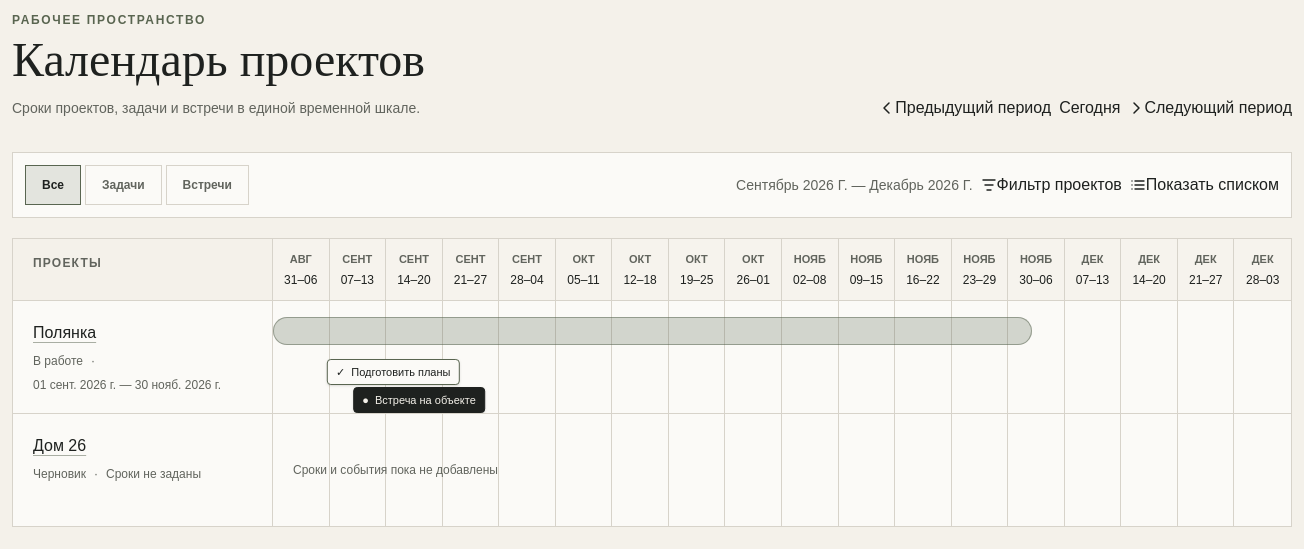
Test: GlobalProjectsCalendarPage › shows accessible project lanes, filters event kinds, and opens linked list items
Expected: the heading "Календарь проектов" is shown, [12,36,425,84]
Expected: the link "Полянка" is shown, [33,324,96,340]
Click the button "Задачи".
click(123, 185)  # box [85,165,162,205]
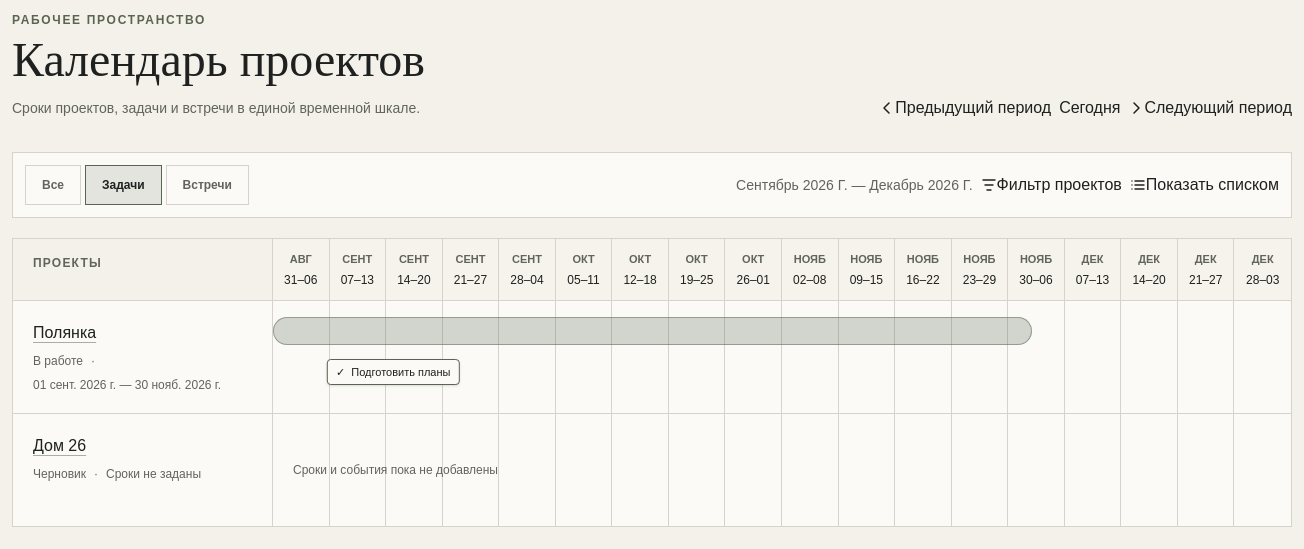
Click the button "Встречи".
click(207, 185)  # box [166,165,249,205]
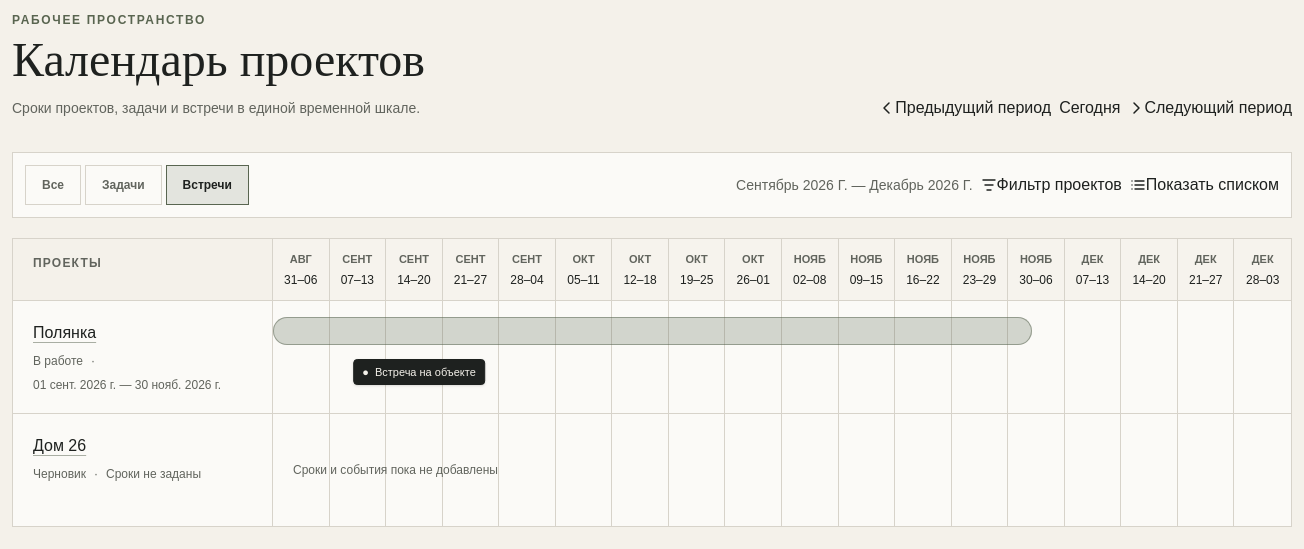
Expected: the link "Задача Подготовить планы" is not shown
Click the button "Задачи".
click(123, 185)  # box [85,165,162,205]
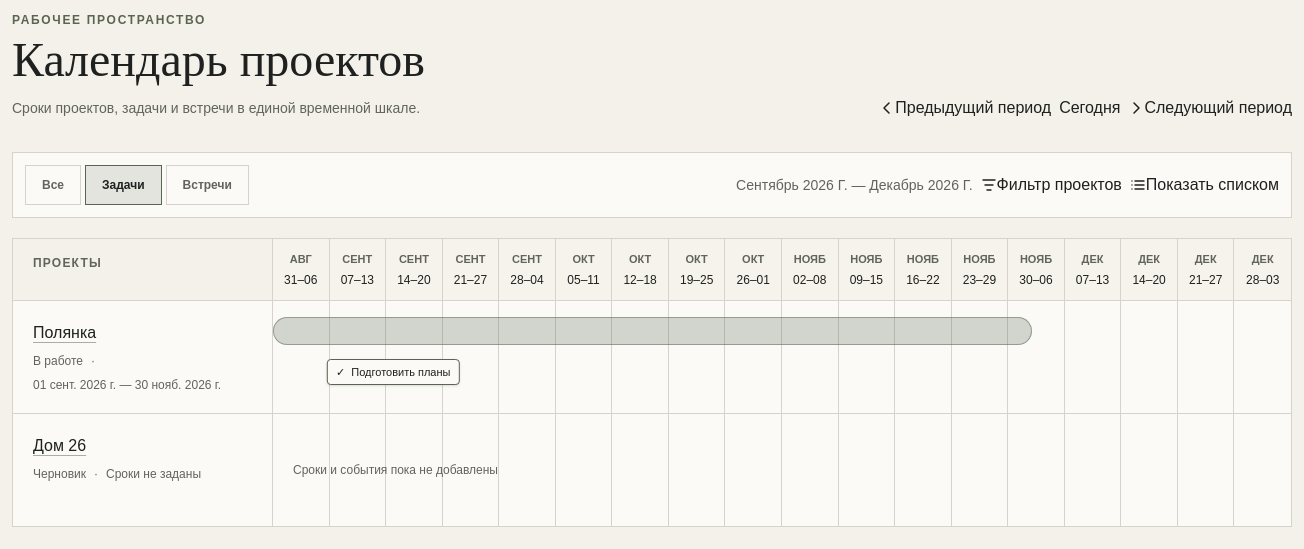
Click the button named "Показать календарь списком".
click(1138, 185)  # box [1130,173,1146,197]
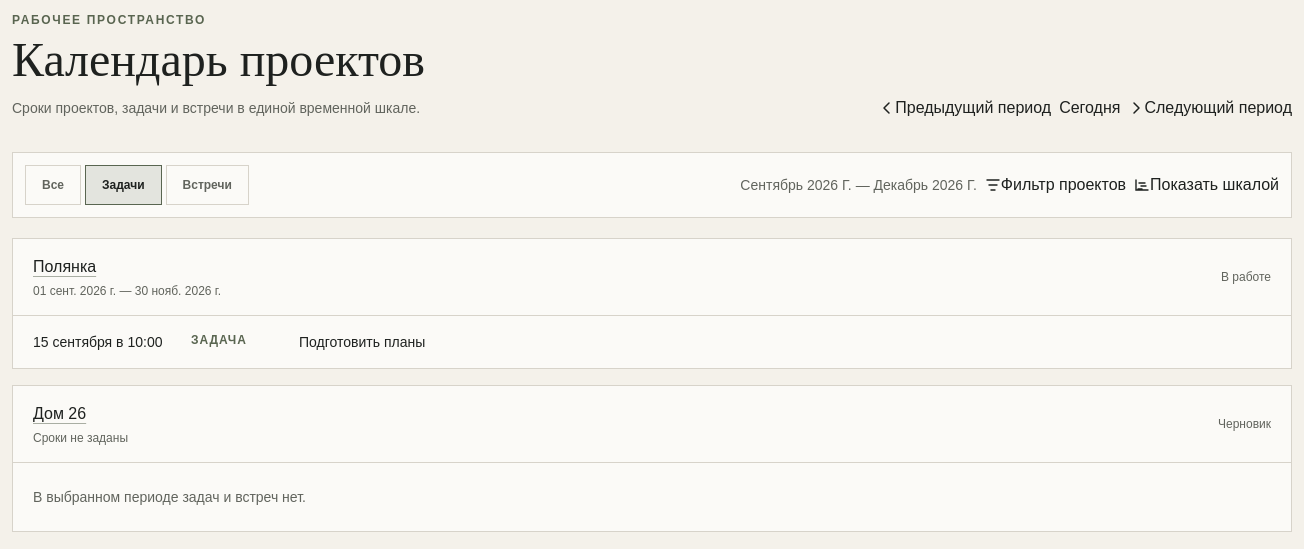
Expected: the text "Подготовить планы" is shown, [299,334,425,350]
Expected: the element with test id "global-calendar-list" is shown, [12,238,1292,532]
